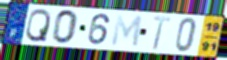0: (50, 9, 82, 45), (175, 17, 200, 54)
6: (86, 13, 111, 47)
M: (109, 13, 144, 49)
Q: (24, 8, 53, 44)
T: (151, 15, 173, 52)
